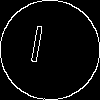I: (25, 25, 47, 73)
